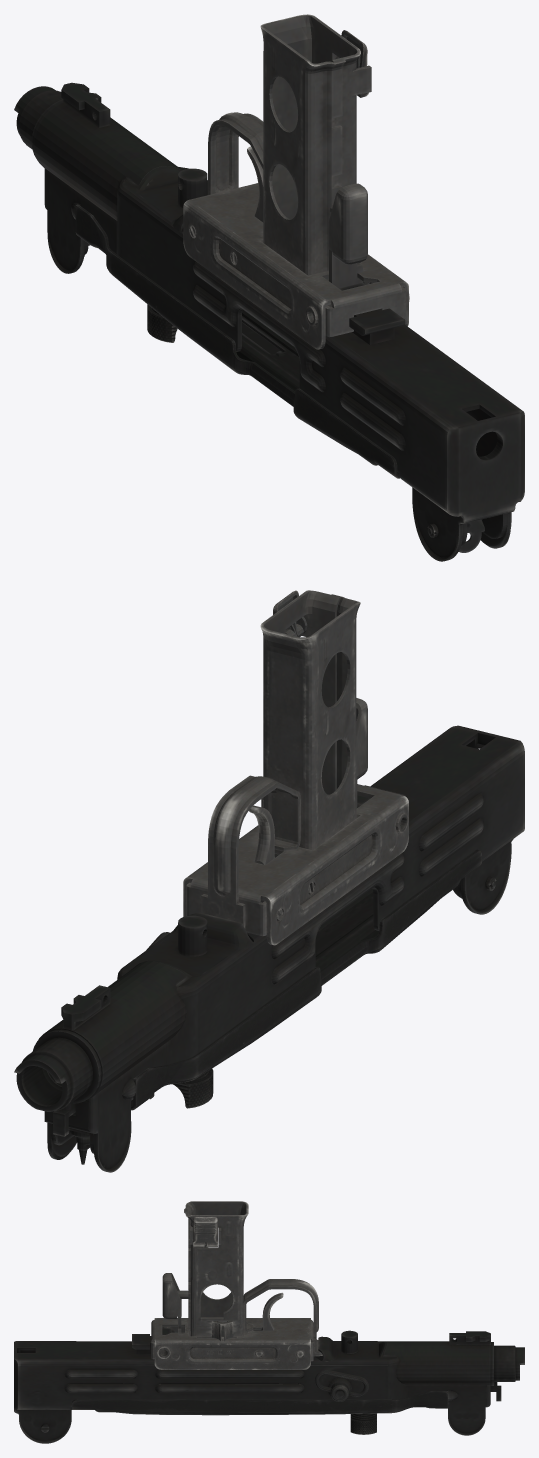
3 renders of one model, top to bottom at view 1: azimuth 30°, elevation 25°; view 2: azimuth 150°, elevation 25°; view 3: azimuth 270°, elevation 25°, orthographic. The views are drawn at different scales.
Parts seen in each view (by area): view 1: TW_66992b349950f5f4cd06029f_PZ_Import; view 2: TW_66992b349950f5f4cd06029f_PZ_Import; view 3: TW_66992b349950f5f4cd06029f_PZ_Import.
Boxes of the visible parts, <box> form: TW_66992b349950f5f4cd06029f_PZ_Import: <box>14,14,524,561</box>; TW_66992b349950f5f4cd06029f_PZ_Import: <box>14,590,524,1172</box>; TW_66992b349950f5f4cd06029f_PZ_Import: <box>14,1201,524,1443</box>.
Bounding box in the file's own units: 0.0293 × 0.2174 × 0.107.
Materials: 1 (1 with a texture image).
